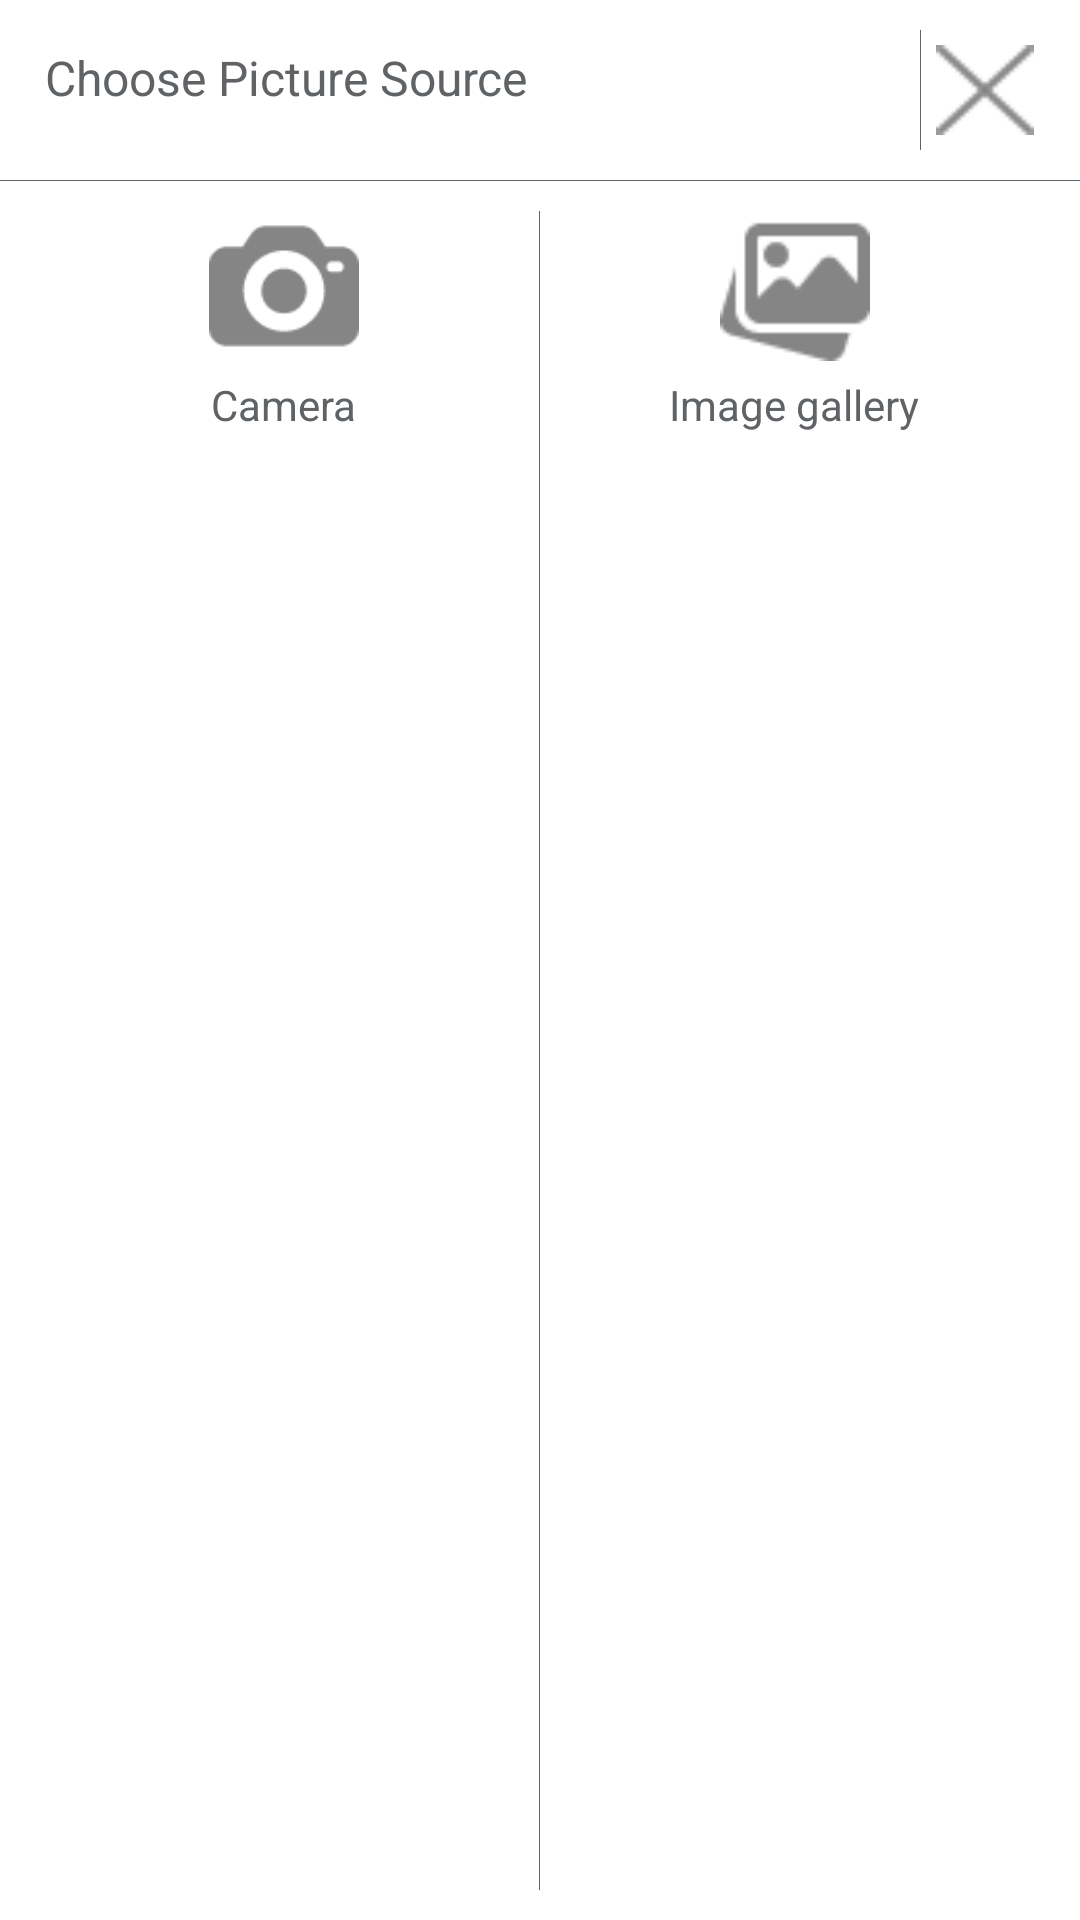

Locate icon controls on the screen. Image size 1080px x 1920px, boxes as box(x1, y1, x2, y2).
cancel: box(936, 45, 1034, 135)
